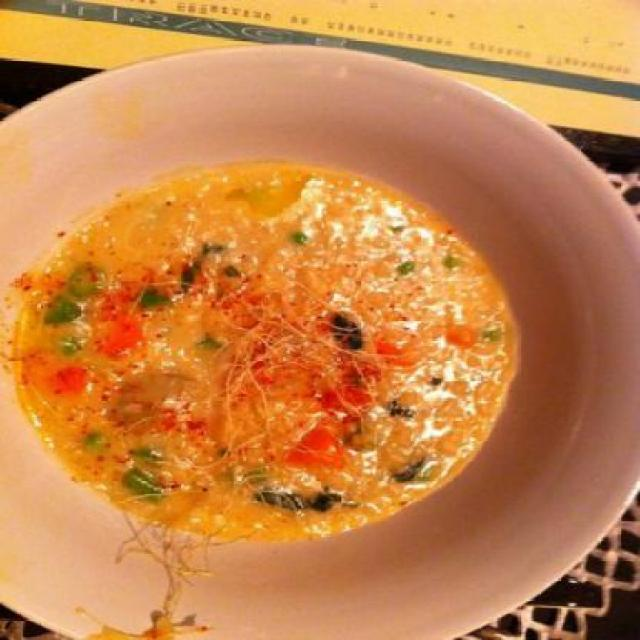Risotto: (23, 174, 512, 537)
